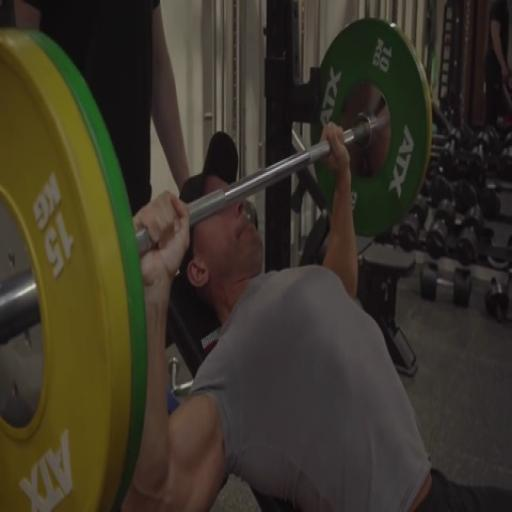exercise: (117, 121, 511, 510)
